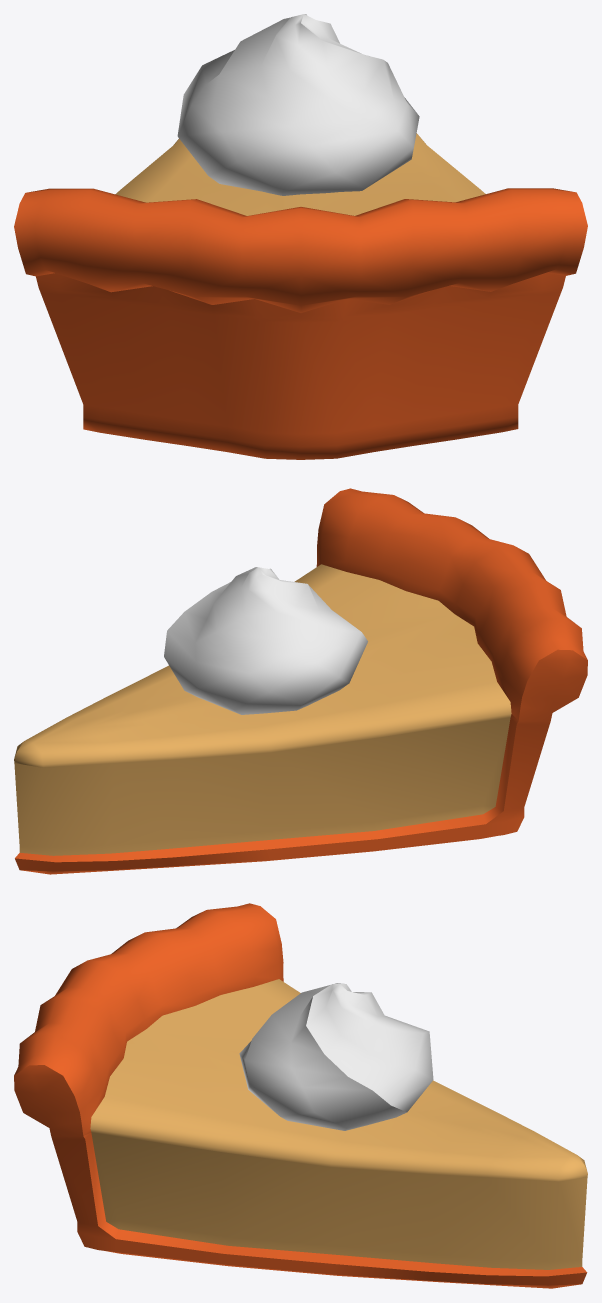
File: pie.fbx
3 renders of one model, top to bottom at view 1: azimuth 30°, elevation 25°; view 2: azimuth 150°, elevation 25°; view 3: azimuth 270°, elevation 25°, orthographic. The views are drawn at different scales.
Visible parts, largest first — view 1: Cream; view 2: Cream; view 3: Cream.
Part boxes in pixels (x1,y1,x2,y2): Cream: [14, 14, 587, 459]; Cream: [14, 488, 587, 874]; Cream: [14, 903, 587, 1288].
Size of the model in its own units: 99.26 by 57.46 by 120.
